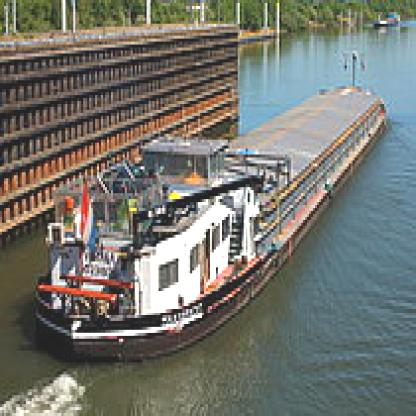Tanker: (28, 70, 399, 372)
